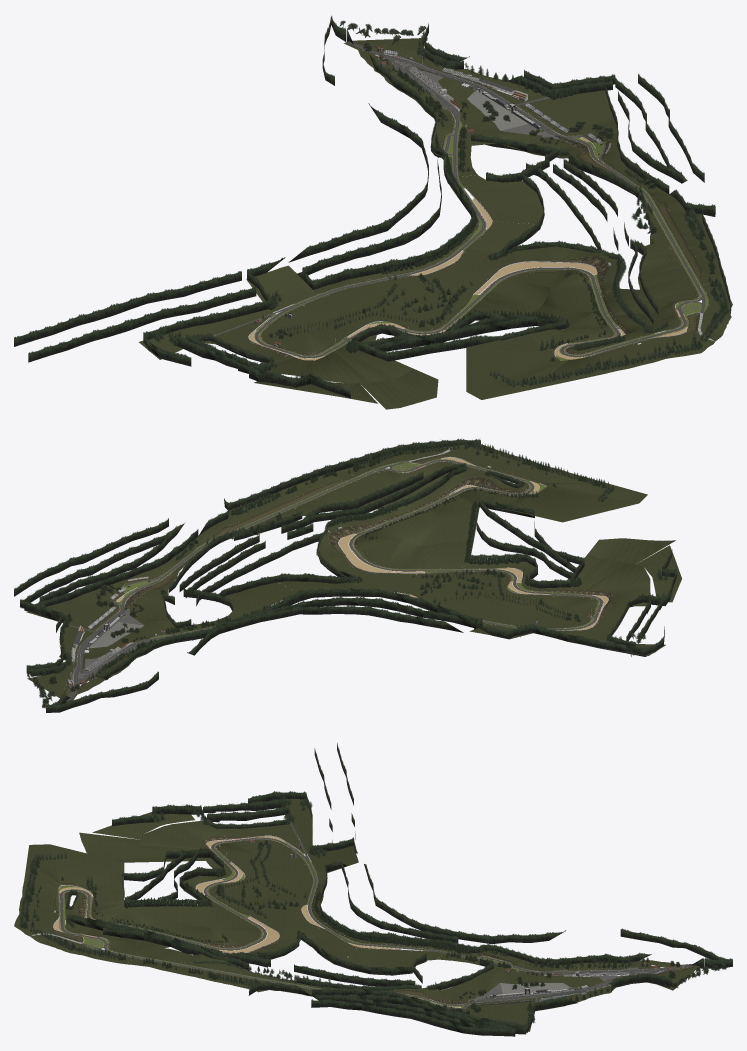
File: circuit_de_spa-francorchamps_1992_layout.glb
3 views of the same model, one above another, from view 1: azimuth 30°, elevation 25°; view 2: azimuth 150°, elevation 25°; view 3: azimuth 270°, elevation 25° (orthographic). The views are drawn at different scales.
Parts seen in each view (by area): view 1: Spa Francorchamps_0; view 2: Spa Francorchamps_0; view 3: Spa Francorchamps_0.
Part boxes in pixels (x1,y1,x2,y2): Spa Francorchamps_0: [14, 15, 732, 409]; Spa Francorchamps_0: [14, 438, 681, 712]; Spa Francorchamps_0: [14, 743, 732, 1036].
Size of the model in its own units: 13559 by 846 by 14195.
66 materials, 64 textured.
